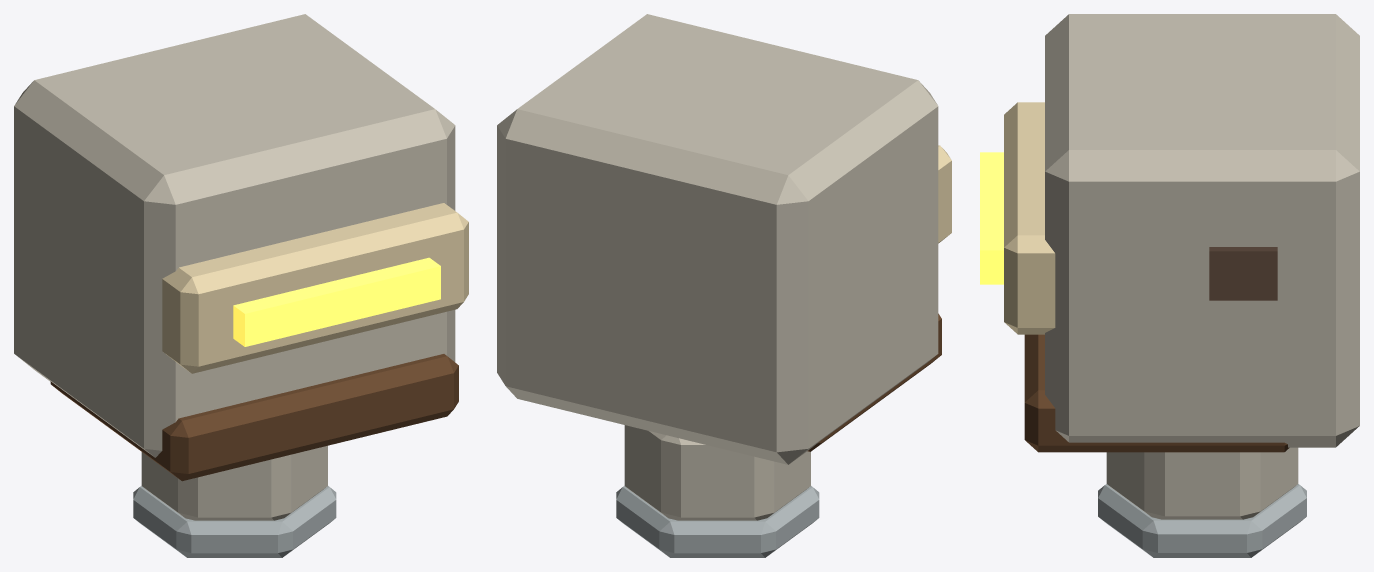
Rendered from head_optic.glb.
The picture shows the model from 3 angles, left to right: view 1: azimuth 30°, elevation 25°; view 2: azimuth 150°, elevation 25°; view 3: azimuth 270°, elevation 25°; orthographic projection. The views are drawn at different scales.
Visible parts, largest first — view 1: head_optic; view 2: head_optic; view 3: head_optic.
Part boxes in pixels (x1=…): head_optic: x1=14, y1=14, x2=468, y2=557; head_optic: x1=497, y1=14, x2=951, y2=557; head_optic: x1=980, y1=14, x2=1359, y2=557.
Size of the model in its own units: 0.555 by 0.71 by 0.555.
1 material, 1 textured.
